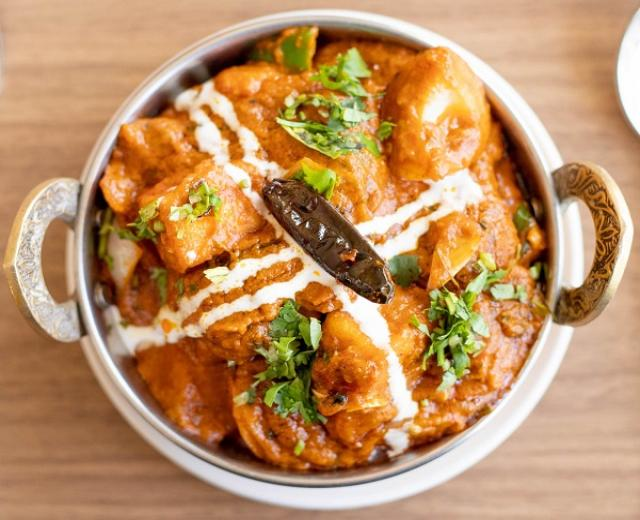kadai paneer: (65, 9, 582, 509)
